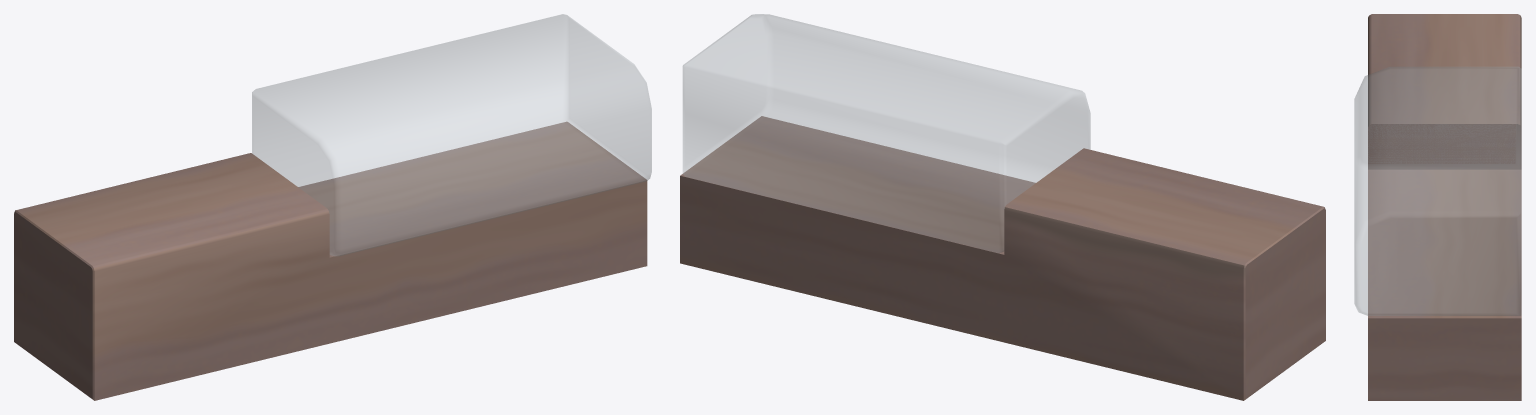
File: Bakery_Counter_01.fbx
The picture shows the model from 3 angles, left to right: view 1: azimuth 30°, elevation 25°; view 2: azimuth 150°, elevation 25°; view 3: azimuth 270°, elevation 25°; orthographic projection. The views are drawn at different scales.
Visible parts, largest first — view 1: Bakery_Counter_01; view 2: Bakery_Counter_01; view 3: Bakery_Counter_01.
Boxes of the visible parts, left/top/right/bottom form: Bakery_Counter_01: left=14, top=14, right=651, bottom=400; Bakery_Counter_01: left=680, top=14, right=1325, bottom=400; Bakery_Counter_01: left=1354, top=14, right=1521, bottom=400.
Bounding box in the file's own units: 436 × 147 × 119.
